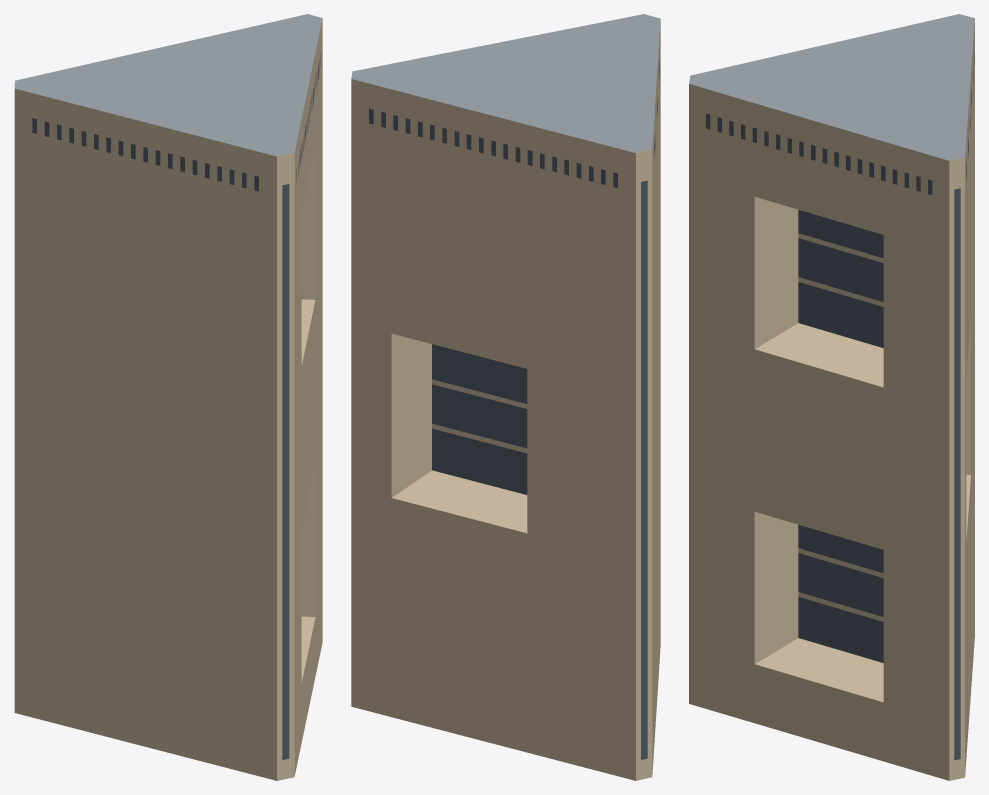
The model's file is jeddah-ncb-tower.glb.
3 views of the same model, side by side, from view 1: azimuth 30°, elevation 25°; view 2: azimuth 150°, elevation 25°; view 3: azimuth 270°, elevation 25° (orthographic).
Parts seen in each view (by area): view 1: National Commercial Bank; view 2: National Commercial Bank; view 3: National Commercial Bank.
Part boxes in pixels (x1=…): National Commercial Bank: x1=14, y1=14, x2=322, y2=780; National Commercial Bank: x1=351, y1=14, x2=660, y2=780; National Commercial Bank: x1=689, y1=14, x2=974, y2=780.
Bounding box in the file's own units: 64.03 × 126 × 52.62.
